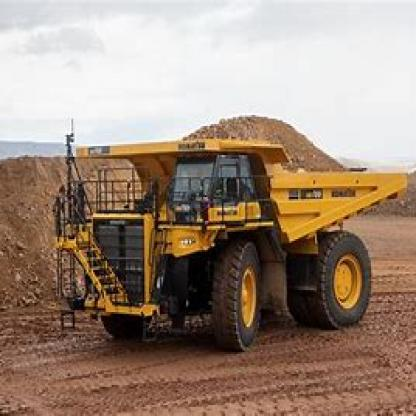dump_truck: (53, 82, 400, 354)
